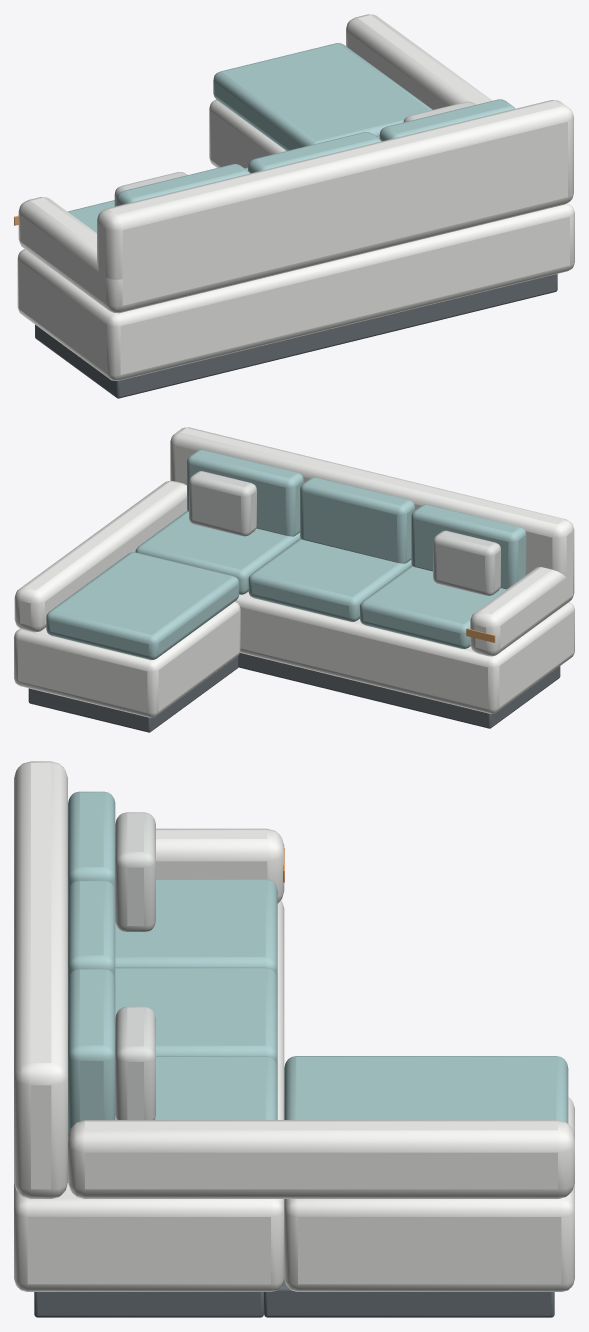
The model's file is sectional_sofa.glb.
3 renders of one model, top to bottom at view 1: azimuth 30°, elevation 25°; view 2: azimuth 150°, elevation 25°; view 3: azimuth 270°, elevation 25°, orthographic. The views are drawn at different scales.
Parts seen in each view (by area): view 1: back_white_painted, base_white_painted, chaise_seat_teal_soft, plinth_graphite, arm_white_painted, chaise_arm_white_painted, base_chaise_white_painted, back_2_teal_soft, back_0_teal_soft, back_1_teal_soft, pillows_warm_panel, seat_0_teal_soft; view 2: base_white_painted, base_chaise_white_painted, chaise_seat_teal_soft, back_white_painted, seat_1_teal_soft, chaise_arm_white_painted, back_1_teal_soft, pillows_warm_panel, seat_0_teal_soft, seat_2_teal_soft, arm_white_painted, plinth_graphite (+3 smaller); view 3: chaise_arm_white_painted, base_chaise_white_painted, base_white_painted, back_white_painted, chaise_seat_teal_soft, seat_1_teal_soft, seat_0_teal_soft, pillows_warm_panel, seat_2_teal_soft, plinth_chaise_graphite, back_2_teal_soft, arm_white_painted (+3 smaller).
Boxes of the visible parts, bbox=[...] form: back_white_painted: bbox=[97, 100, 573, 310]; base_white_painted: bbox=[17, 203, 574, 380]; chaise_seat_teal_soft: bbox=[213, 43, 432, 150]; plinth_graphite: bbox=[35, 274, 557, 398]; arm_white_painted: bbox=[18, 197, 135, 313]; chaise_arm_white_painted: bbox=[346, 14, 492, 109]; base_chaise_white_painted: bbox=[209, 99, 285, 168]; back_2_teal_soft: bbox=[379, 99, 515, 141]; back_0_teal_soft: bbox=[116, 164, 250, 205]; back_1_teal_soft: bbox=[248, 132, 381, 173]; pillows_warm_panel: bbox=[114, 101, 475, 206]; seat_0_teal_soft: bbox=[67, 200, 114, 232]; base_white_painted: bbox=[235, 591, 574, 713]; base_chaise_white_painted: bbox=[14, 601, 240, 717]; chaise_seat_teal_soft: bbox=[46, 552, 239, 659]; back_white_painted: bbox=[170, 427, 574, 601]; seat_1_teal_soft: bbox=[248, 538, 411, 621]; chaise_arm_white_painted: bbox=[14, 481, 187, 632]; back_1_teal_soft: bbox=[300, 477, 414, 563]; pillows_warm_panel: bbox=[189, 471, 500, 595]; seat_0_teal_soft: bbox=[360, 565, 506, 649]; seat_2_teal_soft: bbox=[135, 511, 300, 594]; arm_white_painted: bbox=[470, 567, 573, 656]; plinth_graphite: bbox=[238, 653, 560, 728]; chaise_arm_white_painted: bbox=[68, 1120, 574, 1198]; base_chaise_white_painted: bbox=[284, 1097, 574, 1291]; base_white_painted: bbox=[14, 900, 284, 1291]; back_white_painted: bbox=[14, 761, 67, 1198]; chaise_seat_teal_soft: bbox=[284, 1056, 568, 1123]; seat_1_teal_soft: bbox=[115, 967, 277, 1066]; seat_0_teal_soft: bbox=[115, 879, 277, 978]; pillows_warm_panel: bbox=[115, 812, 155, 1119]; seat_2_teal_soft: bbox=[68, 1056, 277, 1136]; plinth_chaise_graphite: bbox=[264, 1279, 554, 1317]; back_2_teal_soft: bbox=[68, 968, 115, 1134]; arm_white_painted: bbox=[156, 828, 284, 903].
Size of the model in its own units: 2.2 by 0.84 by 1.66.
